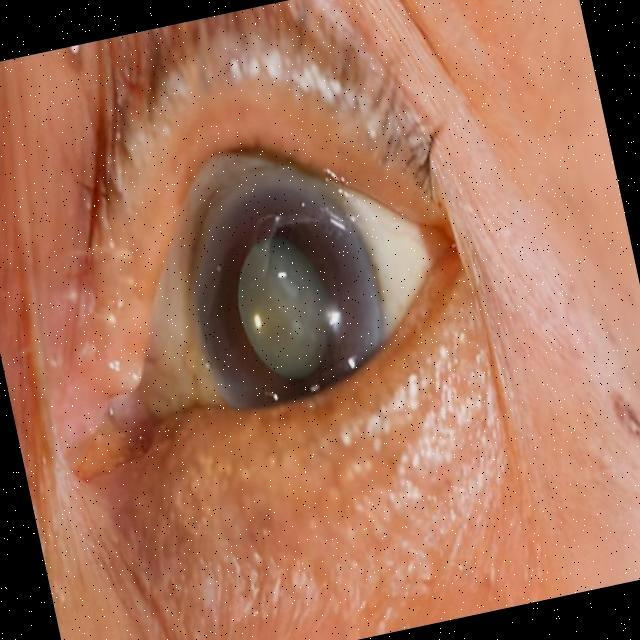Cataract: (146, 131, 424, 453)
